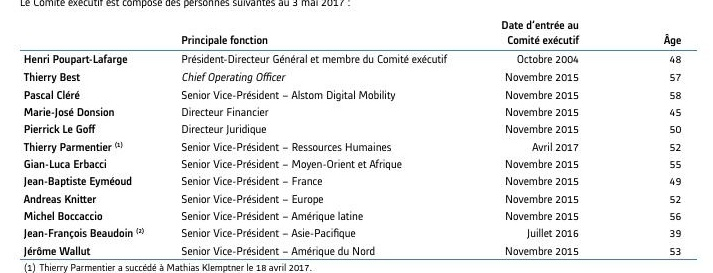table: (0, 0, 713, 273)
